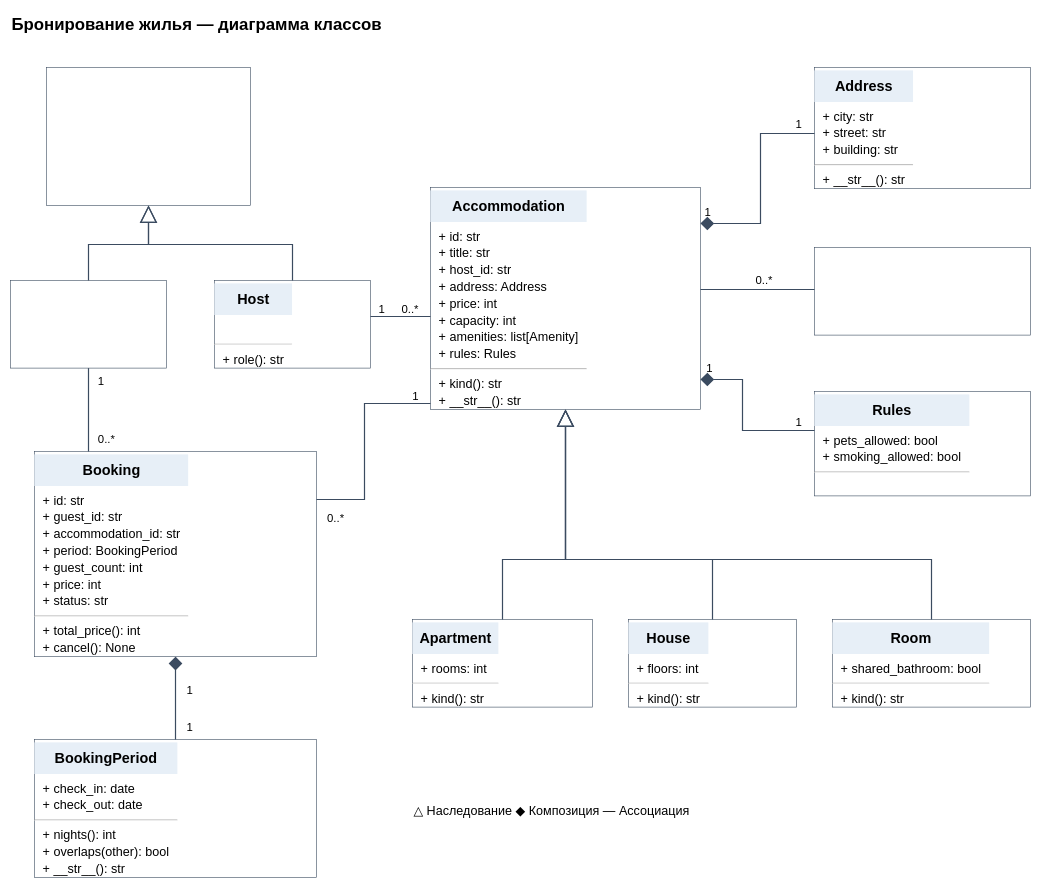
Some shapes in this 1041 by 890 pixel diagram are drawn without their labels. The shapes that lost their labels are listed below. From the top down, each one's centre as x and y in pixels, then its label:
At point (148, 136): "Person + id: str + name: str + phone: str + role(): str + __str__(): str".
At point (922, 291): "Amenity + name: str + __str__(): str".
At point (88, 324): "Guest + role(): str".
